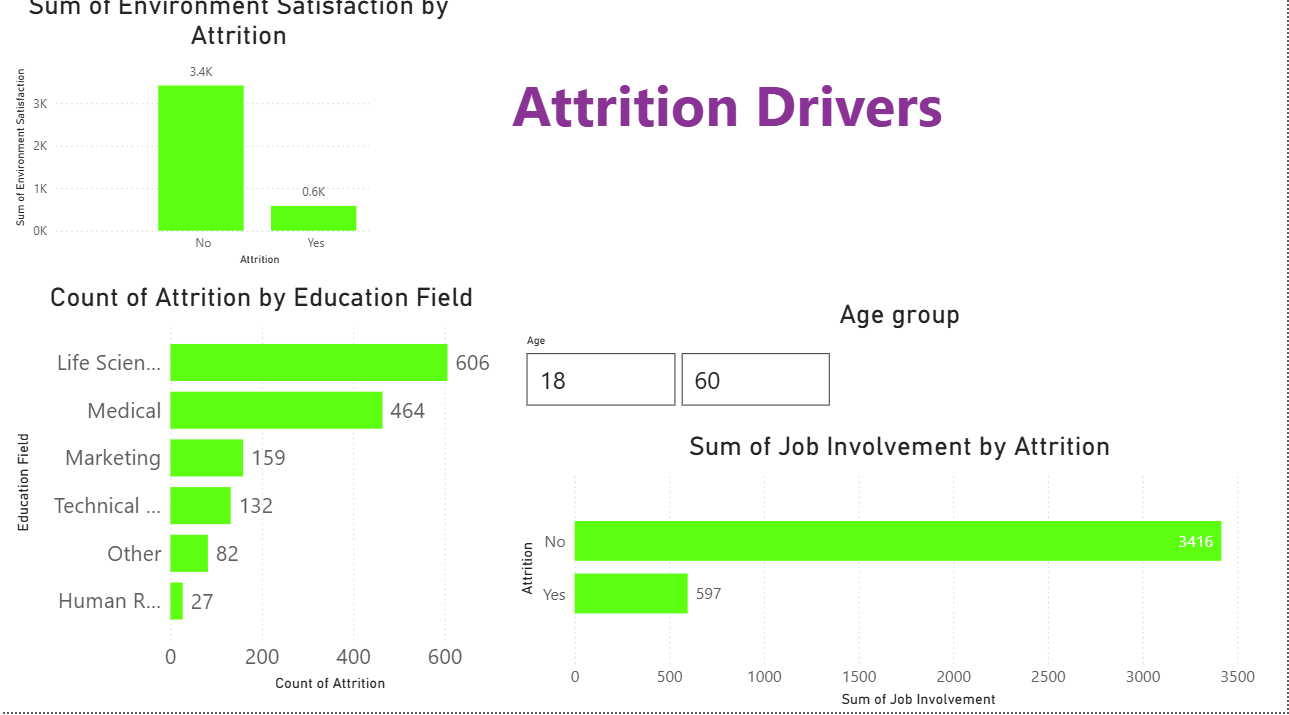

This screenshot's page, from the dashboard's own definition file:
{"tool":"powerbi","page":{"name":"Attrition drivers","canvas":[1280,720],"ordinal":1},"visuals":[{"type":"clusteredColumnChart","fields":{"Category":["WA_Fn-UseC_-HR-Employee-Attriti.Attrition"],"Y":["Avg(WA_Fn-UseC_-HR-Employee-Attriti.Environment Satisfaction)"]},"box":[9.7,0,455.6,280.6],"z":0},{"type":"clusteredBarChart","fields":{"Category":["WA_Fn-UseC_-HR-Employee-Attriti.Education Field"],"Y":["CountNonNull(WA_Fn-UseC_-HR-Employee-Attriti.Attrition)"]},"box":[10,290.6,501,412.5],"z":1000},{"type":"barChart","fields":{"Category":["WA_Fn-UseC_-HR-Employee-Attriti.Attrition"],"Y":["Avg(WA_Fn-UseC_-HR-Employee-Attriti.Job Involvement)"]},"box":[511.1,439.3,768.3,280.6],"z":2000},{"type":"slicer","title":"Age group","fields":{"Values":["WA_Fn-UseC_-HR-Employee-Attriti.Age"]},"box":[511.1,307.3,768.3,131.9],"z":3000},{"type":"textbox","box":[366.7,70.8,713.9,219.4],"z":4000}]}

Visuals, with their boxes in screenshot pixels (x1, y1, x2, y2), scaled from the page's 1280x720 canvas onto the 1289x715 screenshot:
clusteredColumnChart - WA_Fn-UseC_-HR-Employee-Attriti.Attrition x Avg(WA_Fn-UseC_-HR-Employee-Attriti.Environment Satisfaction): box(10, 0, 469, 279)
clusteredBarChart - WA_Fn-UseC_-HR-Employee-Attriti.Education Field x CountNonNull(WA_Fn-UseC_-HR-Employee-Attriti.Attrition): box(10, 289, 515, 698)
barChart - WA_Fn-UseC_-HR-Employee-Attriti.Attrition x Avg(WA_Fn-UseC_-HR-Employee-Attriti.Job Involvement): box(515, 436, 1288, 714)
"Age group" slicer: box(515, 305, 1288, 436)
textbox: box(369, 70, 1088, 288)
